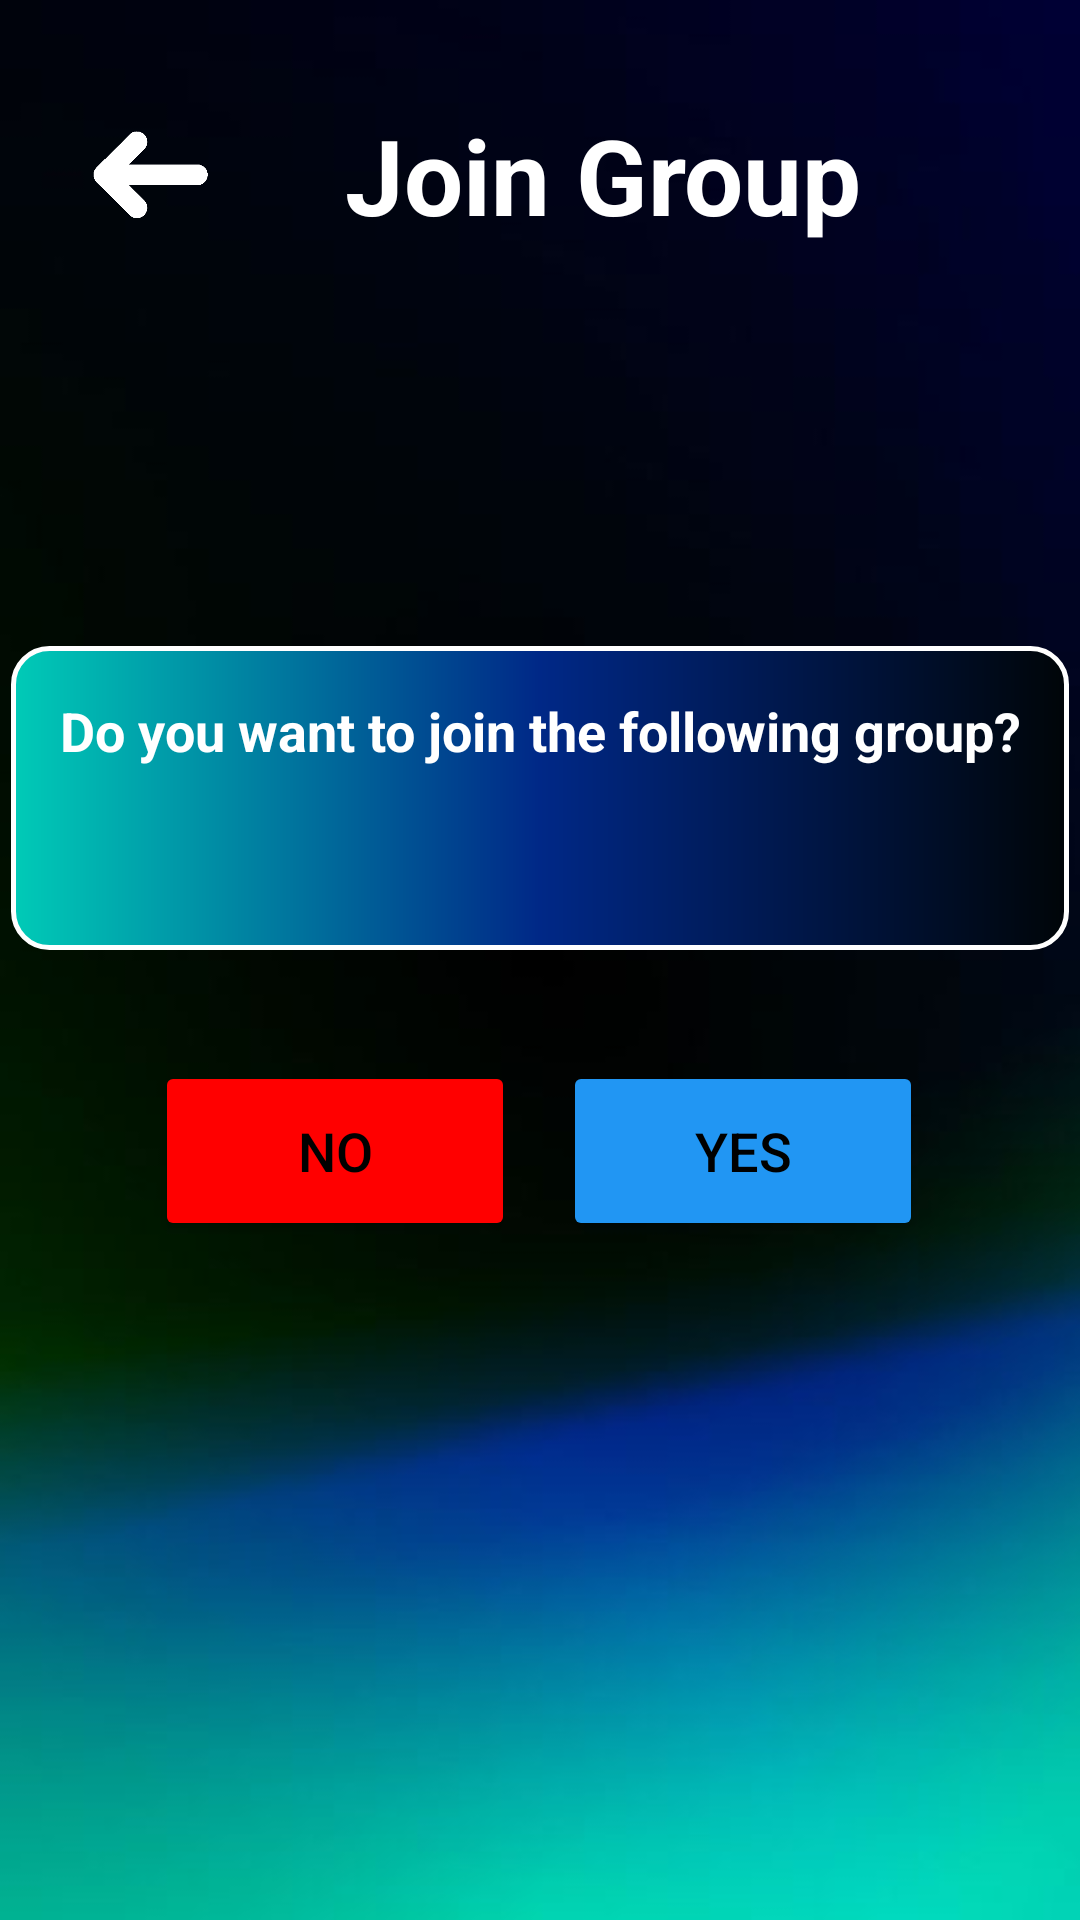

Screen size 1080×1920. Icon name, then its box in pixels as (x1,y1,x2,y2):
back arrow: (93,131,208,218)
